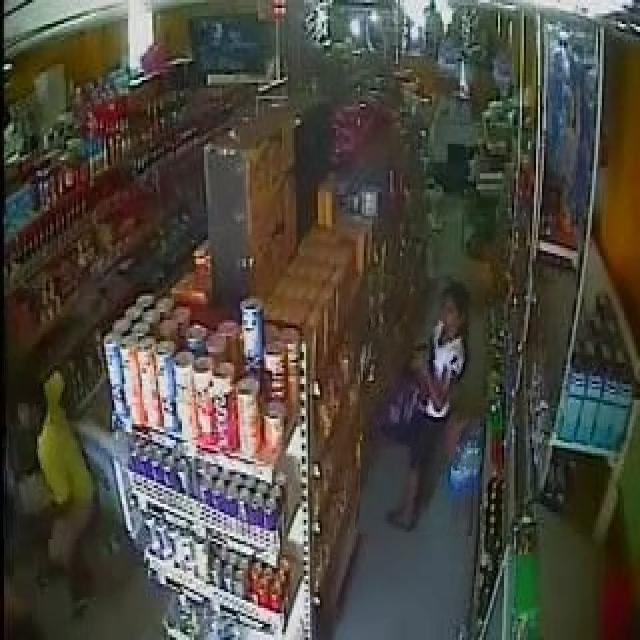Normal: (360, 277, 480, 537), (2, 359, 100, 539)
